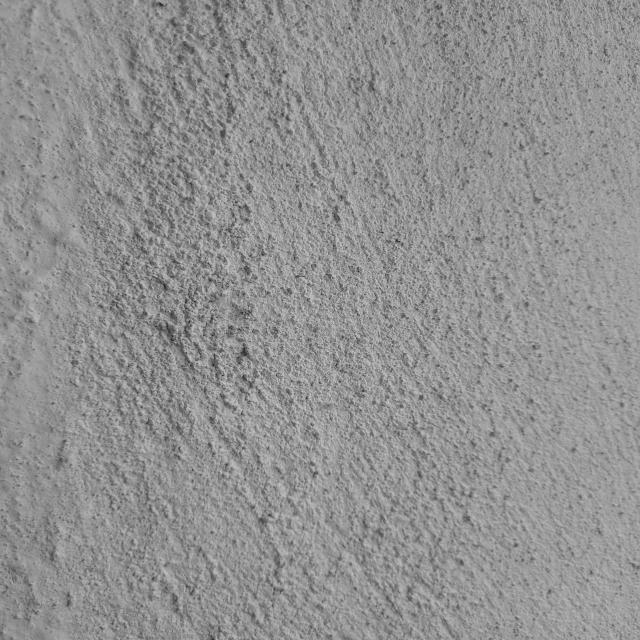rough and patchy surface: (10, 5, 634, 635)
